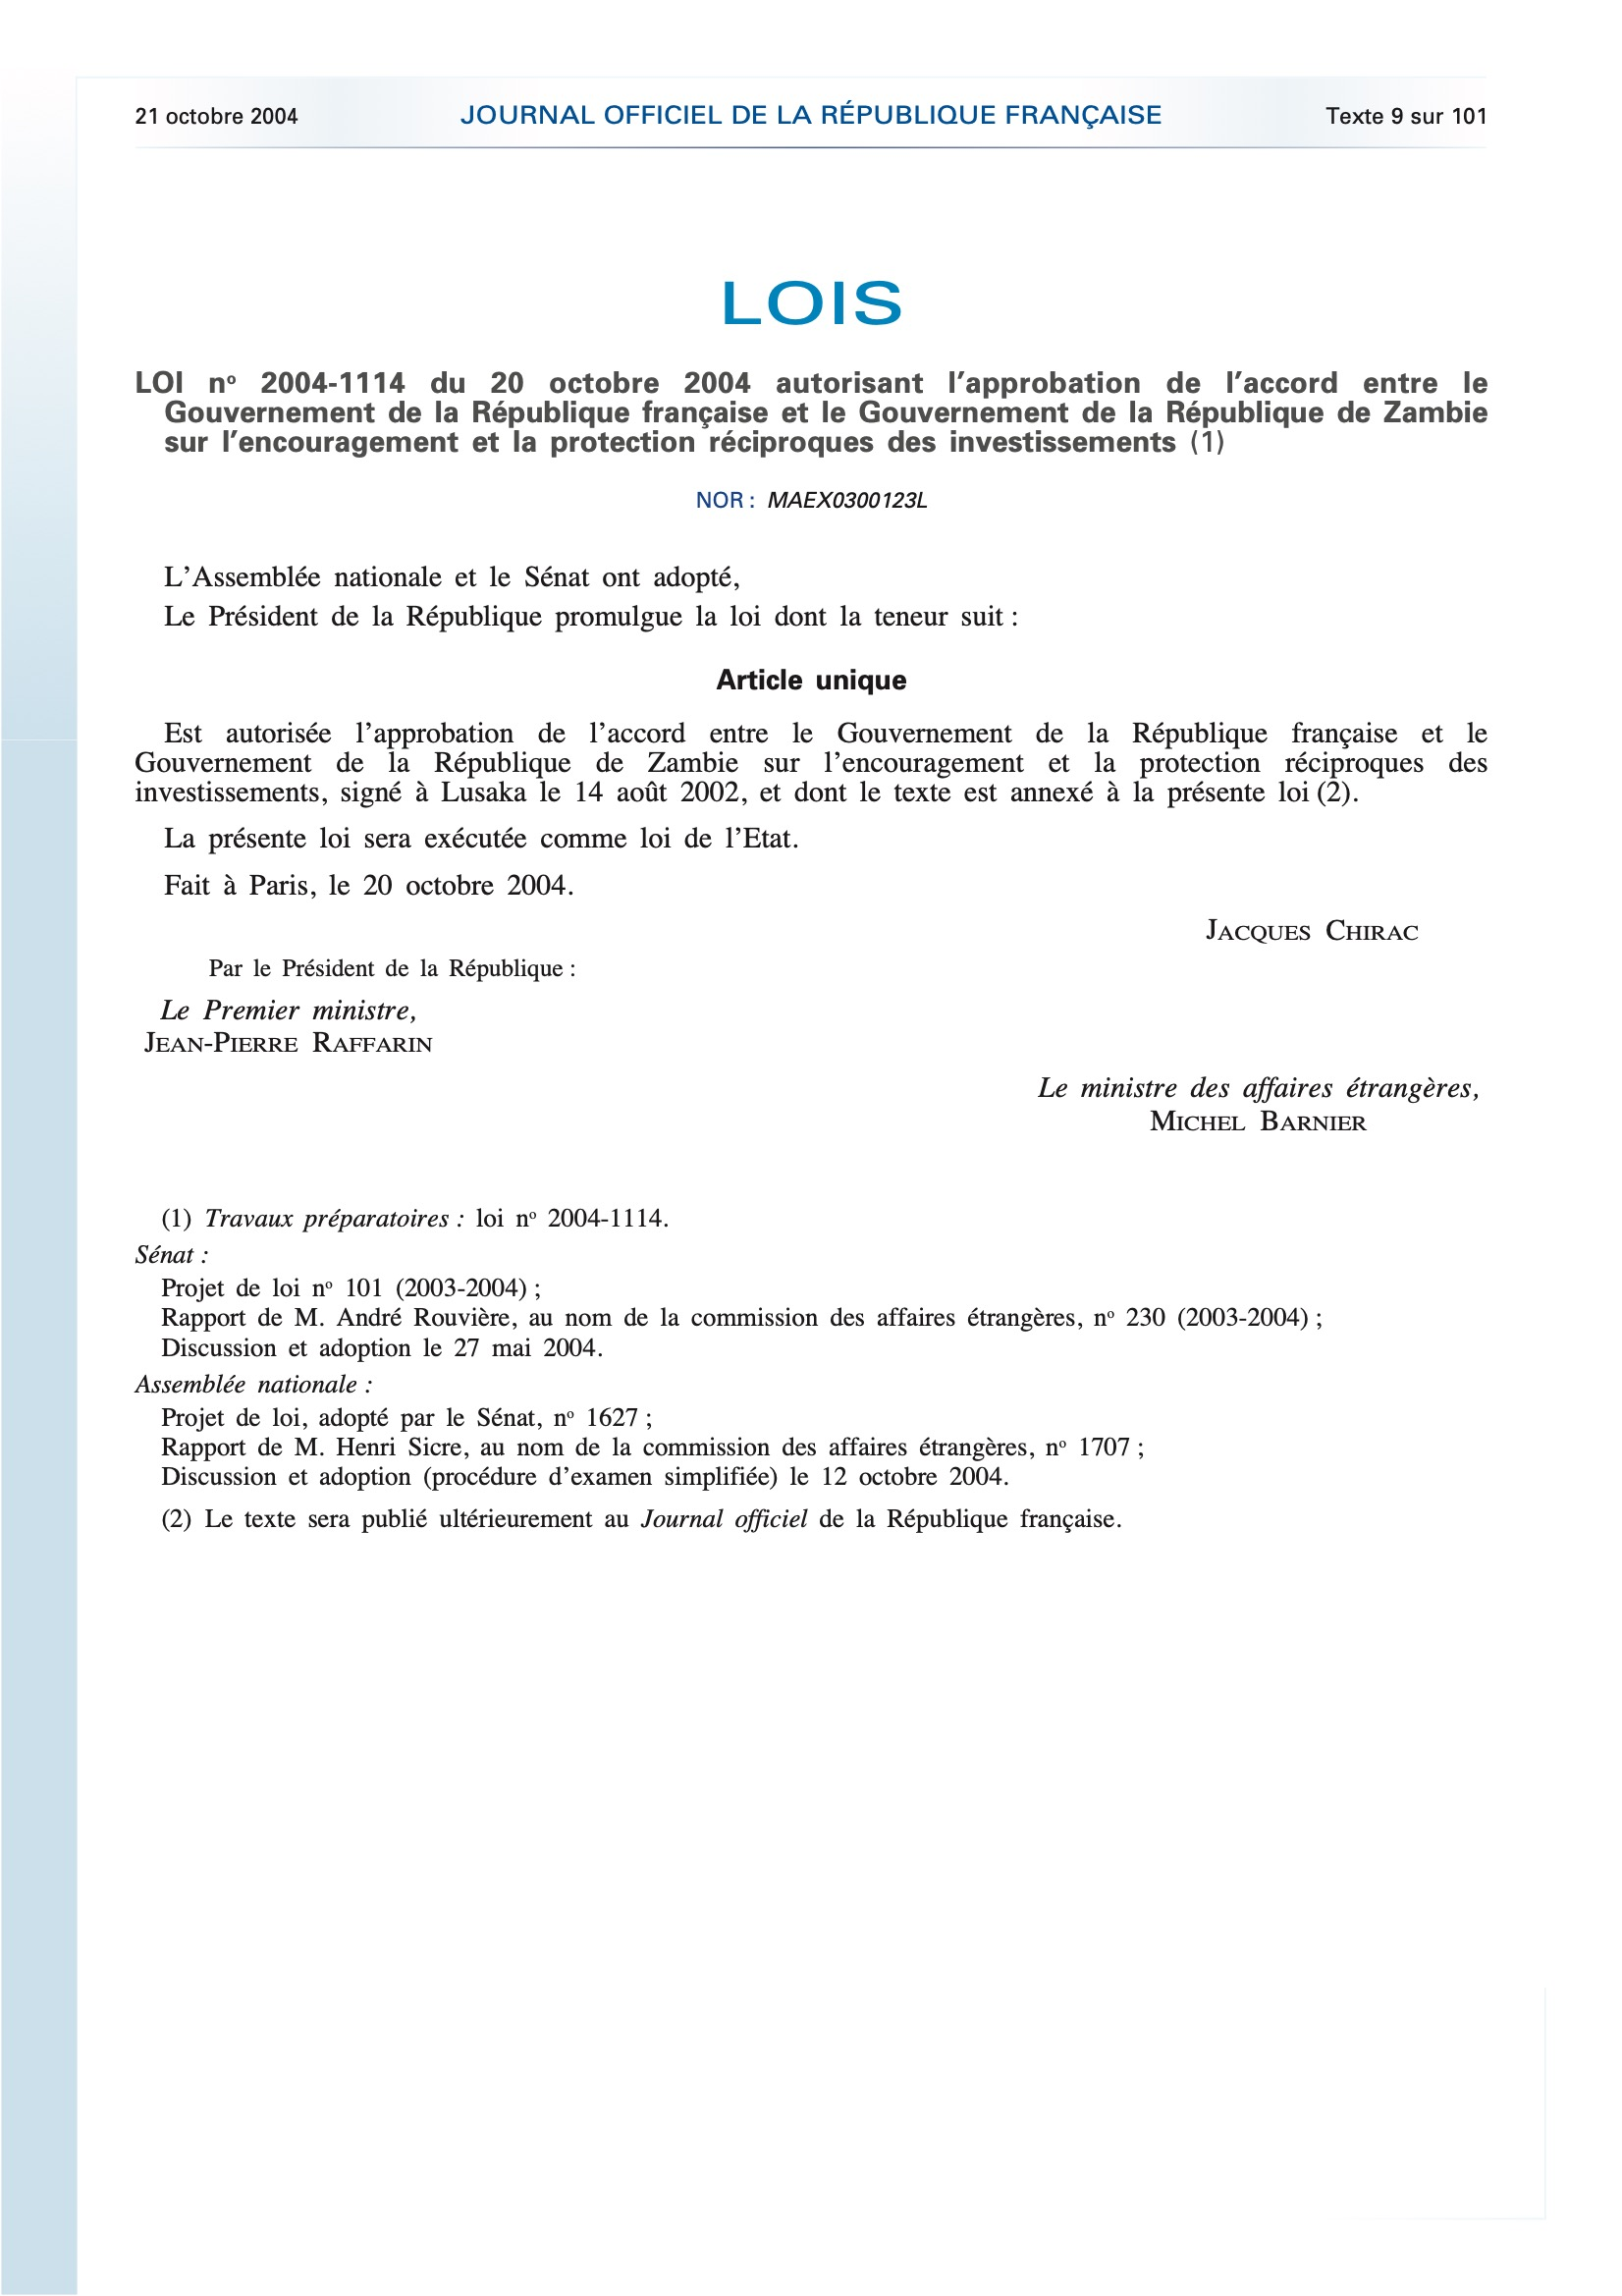MainZone-Date: (125, 94, 308, 138)
MainZone-Head: (122, 357, 1500, 467), (703, 258, 919, 341), (706, 660, 916, 703)
MainZone-Other: (680, 477, 937, 521)
MainZone-P: (131, 710, 1501, 822), (147, 596, 1031, 638), (145, 558, 750, 595), (151, 822, 804, 856), (190, 947, 586, 986), (155, 870, 578, 905)
MainZone-Signature: (1023, 1064, 1488, 1148), (133, 993, 449, 1064), (1193, 905, 1431, 957)
MarginTextZone-Notes: (112, 1192, 1351, 1490), (148, 1500, 1137, 1537)
StampZone: (451, 88, 1171, 137)
TitlePageZone: (1317, 95, 1494, 136)
